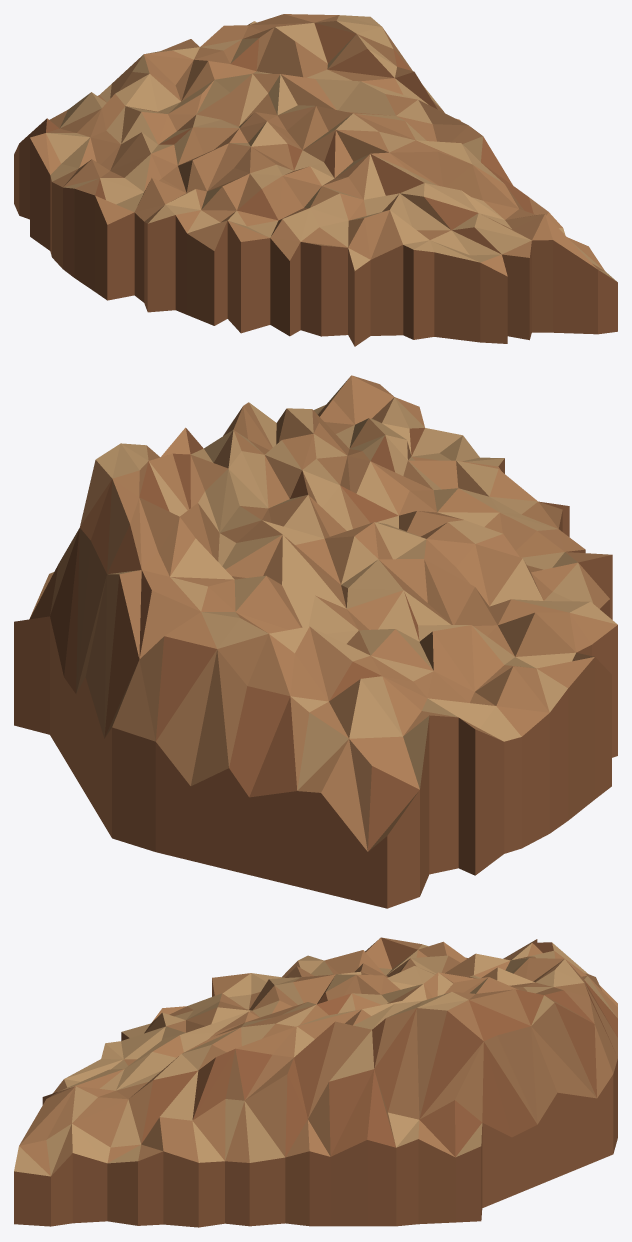
Rendered from nose_crag.glb.
The picture shows the model from 3 angles, top to bottom: view 1: azimuth 30°, elevation 25°; view 2: azimuth 150°, elevation 25°; view 3: azimuth 270°, elevation 25°; orthographic projection. The views are drawn at different scales.
Parts seen in each view (by area): view 1: nose_crag; view 2: nose_crag; view 3: nose_crag.
Boxes of the visible parts, x1,y1,x2,y2 form: nose_crag: (14,14,617,346); nose_crag: (14,375,617,908); nose_crag: (14,937,617,1227).
Size of the model in its own units: 123 by 59.05 by 168.
